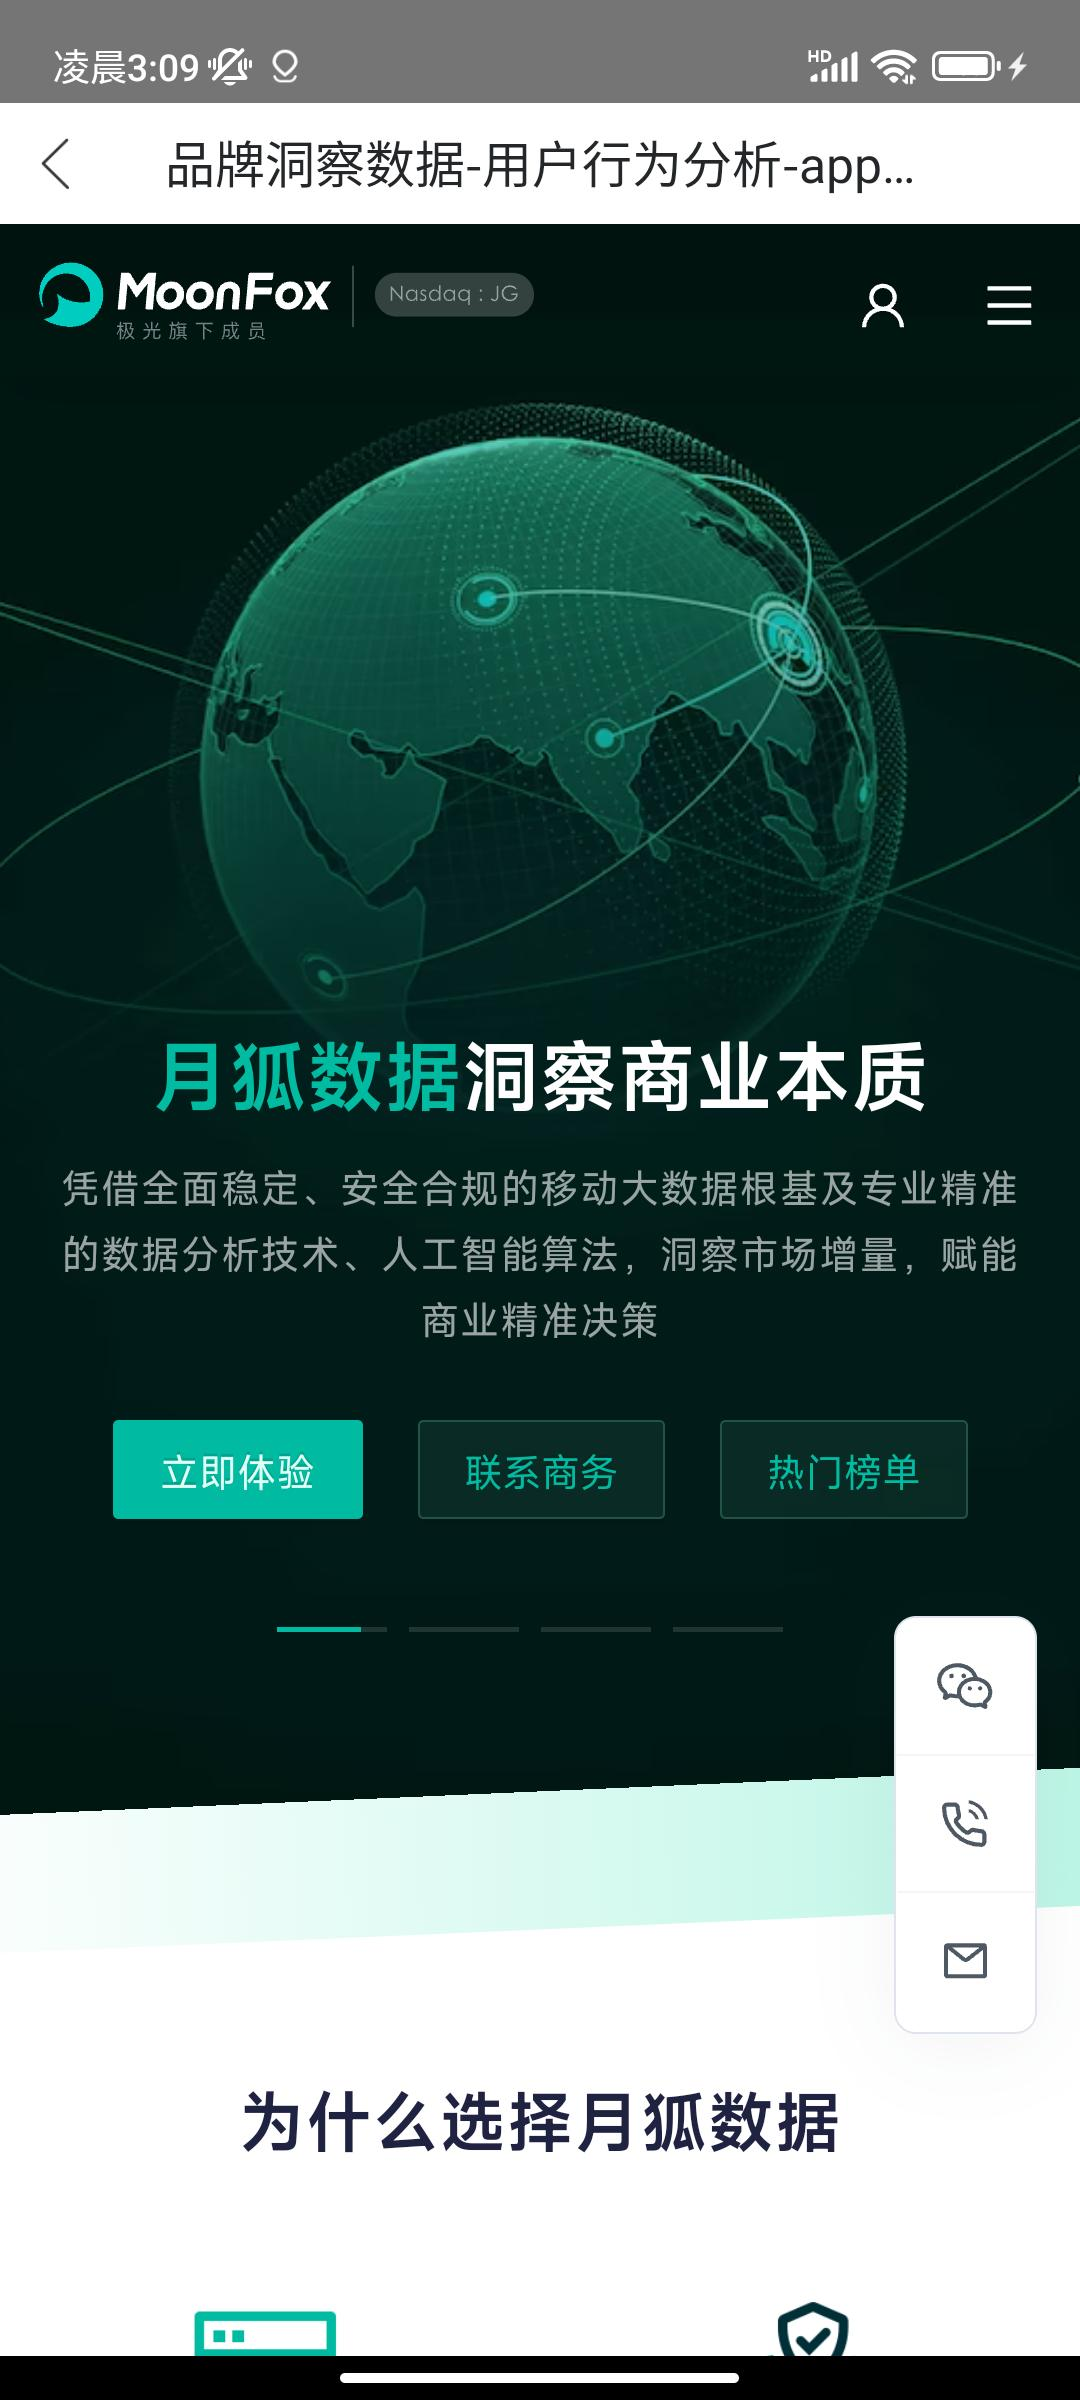ui_group: (2, 380, 1080, 1586)
